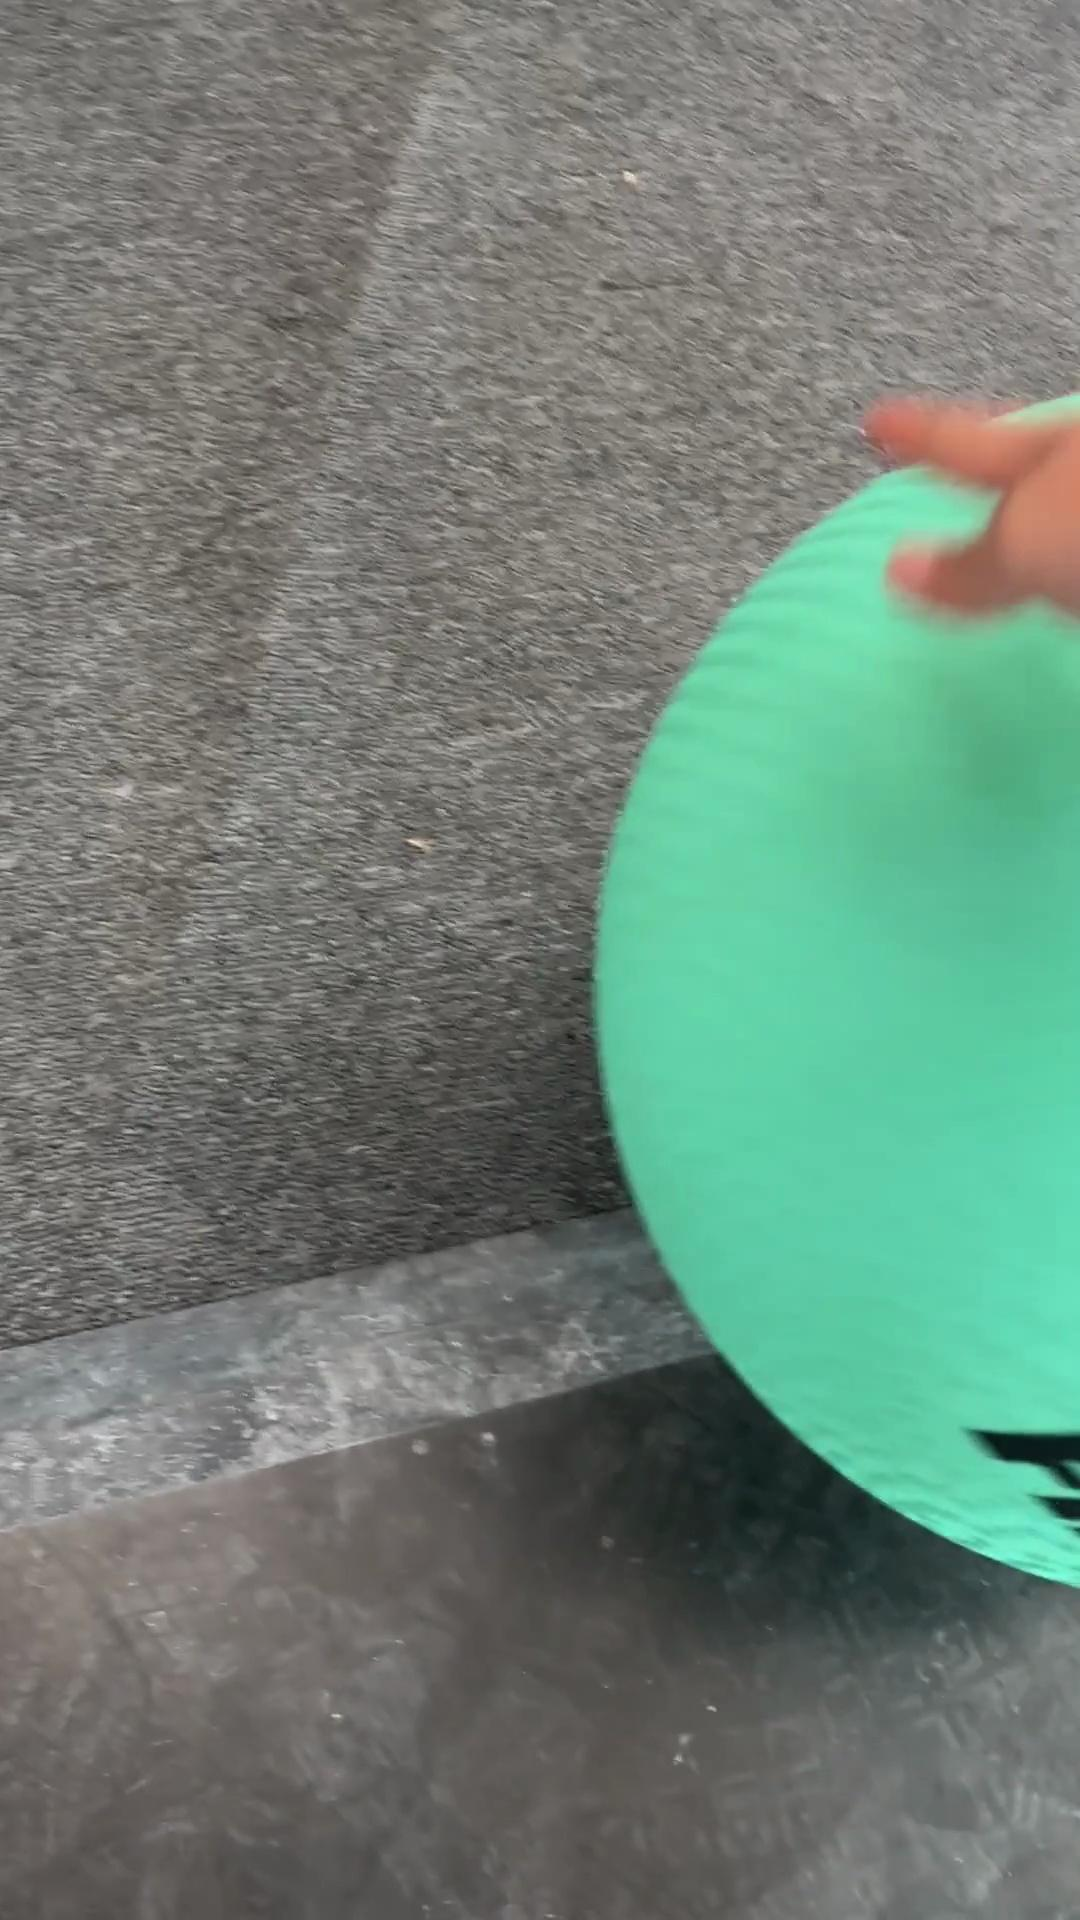ALGAE: (589, 451, 1077, 1589)
